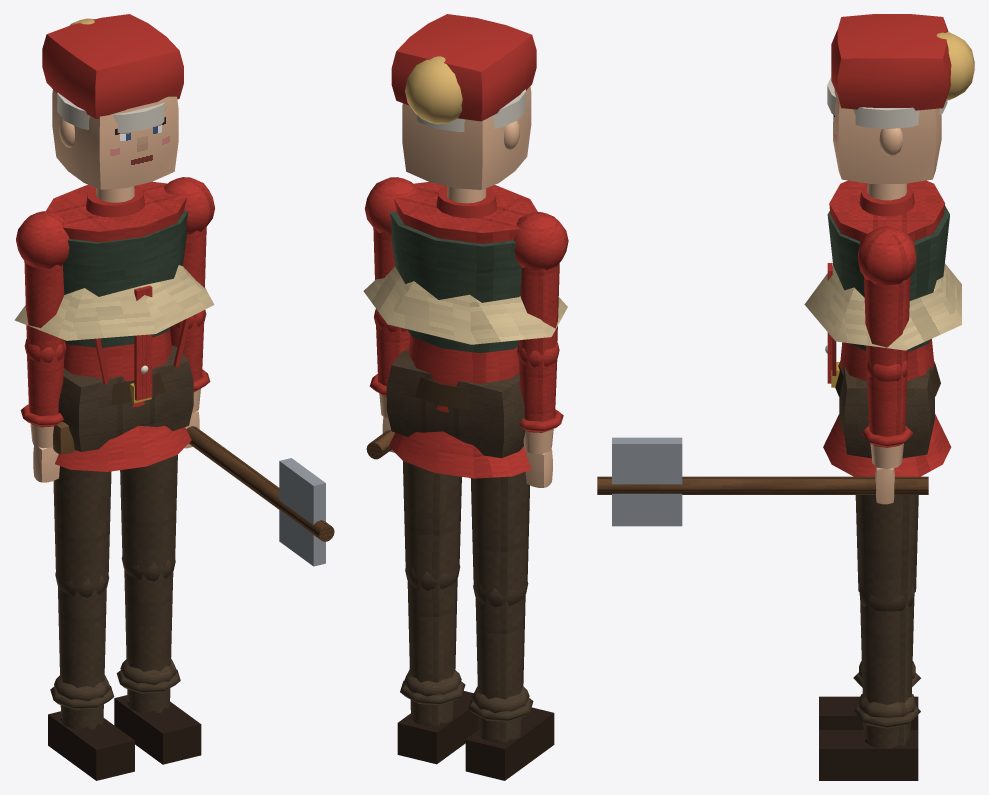
The model's file is leñadora.glb.
3 views of the same model, side by side, from view 1: azimuth 30°, elevation 25°; view 2: azimuth 150°, elevation 25°; view 3: azimuth 270°, elevation 25° (orthographic). The views are drawn at different scales.
Parts seen in each view (by area): view 1: leñadora, object 38, object 33, object 1, object 8, object 10, object 3, object 7, object 14, object 31, object 30, object 17 (+14 smaller); view 2: leñadora, object 38, object 33, object 1, object 8, object 3, object 10, object 7, object 14, object 37, object 16, object 17 (+18 smaller); view 3: leñadora, object 38, object 8, object 33, object 10, object 31, object 30, object 14, object 24, object 23, object 26, object 39 (+7 smaller).
Part boxes in pixels (left/top/right/bottom): leñadora: left=14, top=181, right=214, bottom=471; object 38: left=42, top=14, right=183, bottom=118; object 33: left=52, top=90, right=178, bottom=189; object 1: left=53, top=466, right=111, bottom=587; object 8: left=120, top=455, right=177, bottom=571; object 10: left=124, top=567, right=173, bottom=713; object 3: left=57, top=583, right=106, bottom=729; object 7: left=48, top=711, right=134, bottom=780; object 14: left=114, top=695, right=201, bottom=764; object 31: left=279, top=458, right=325, bottom=566; object 30: left=186, top=426, right=334, bottom=541; object 17: left=24, top=261, right=64, bottom=353; leñadora: left=363, top=182, right=567, bottom=478; object 38: left=391, top=14, right=536, bottom=121; object 33: left=402, top=86, right=531, bottom=189; object 1: left=470, top=472, right=529, bottom=596; object 8: left=403, top=461, right=461, bottom=579; object 3: left=475, top=592, right=525, bottom=742; object 10: left=407, top=575, right=457, bottom=725; object 7: left=465, top=707, right=554, bottom=780; object 14: left=397, top=691, right=478, bottom=764; object 37: left=405, top=56, right=462, bottom=124; object 16: left=514, top=212, right=568, bottom=270; object 17: left=519, top=263, right=559, bottom=357; leñadora: left=804, top=180, right=961, bottom=476; object 38: left=831, top=14, right=951, bottom=110; object 8: left=855, top=495, right=918, bottom=602; object 33: left=833, top=89, right=941, bottom=183; object 10: left=860, top=597, right=914, bottom=748; object 31: left=612, top=437, right=682, bottom=526; object 30: left=597, top=476, right=928, bottom=494; object 14: left=819, top=730, right=918, bottom=780; object 24: left=864, top=276, right=910, bottom=367; object 23: left=858, top=226, right=916, bottom=285; object 26: left=866, top=366, right=907, bottom=447; object 39: left=827, top=77, right=947, bottom=129.
Bounding box in the file's own units: 0.5185 × 1.82 × 0.8618.
Materials: 20 (6 with a texture image).
